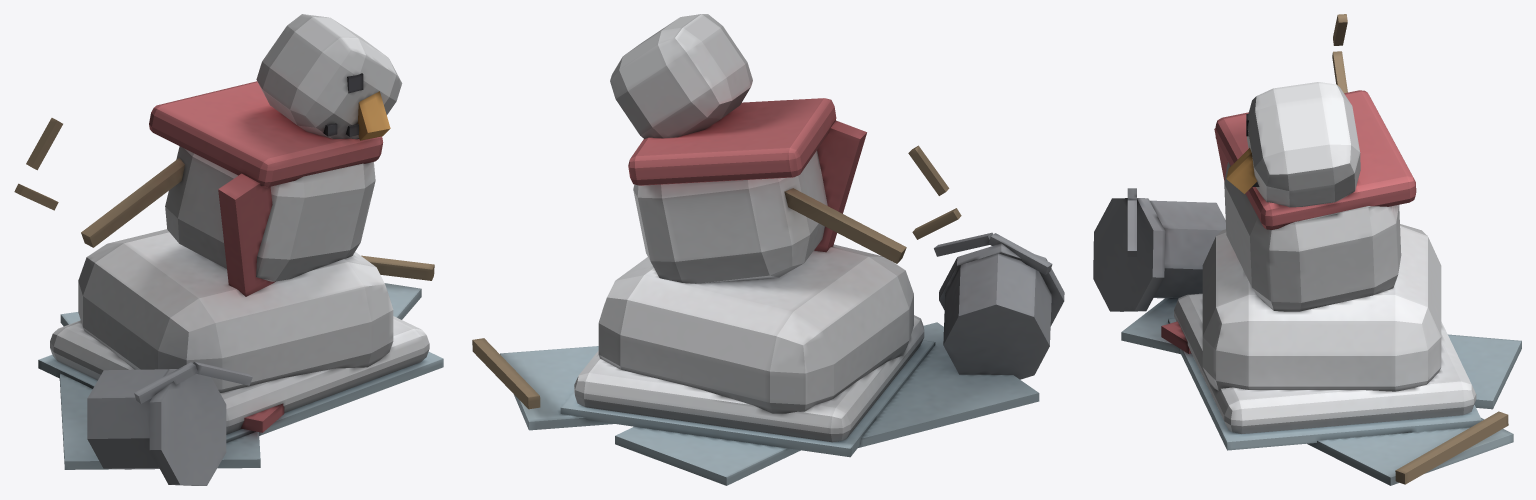
The model's file is meltman.glb.
3 renders of one model, left to right at view 1: azimuth 30°, elevation 25°; view 2: azimuth 150°, elevation 25°; view 3: azimuth 270°, elevation 25°, orthographic. The views are drawn at different scales.
Parts seen in each view (by area): view 1: meltman; view 2: meltman; view 3: meltman.
Part boxes in pixels (<box>): meltman: <box>14,14,443,485</box>; meltman: <box>472,14,1064,485</box>; meltman: <box>1093,14,1521,485</box>.
Size of the model in its own units: 3.45 by 2.44 by 2.8.
7 materials, 7 textured.
